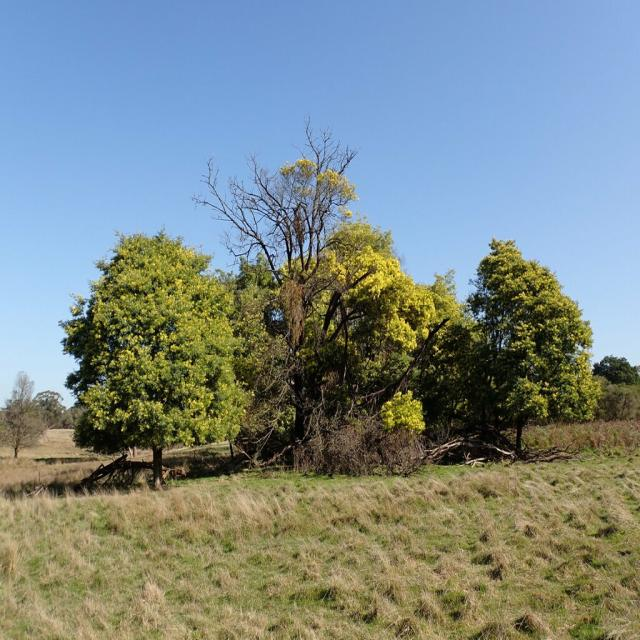Acacia: (322, 175, 602, 444), (79, 182, 232, 468)
